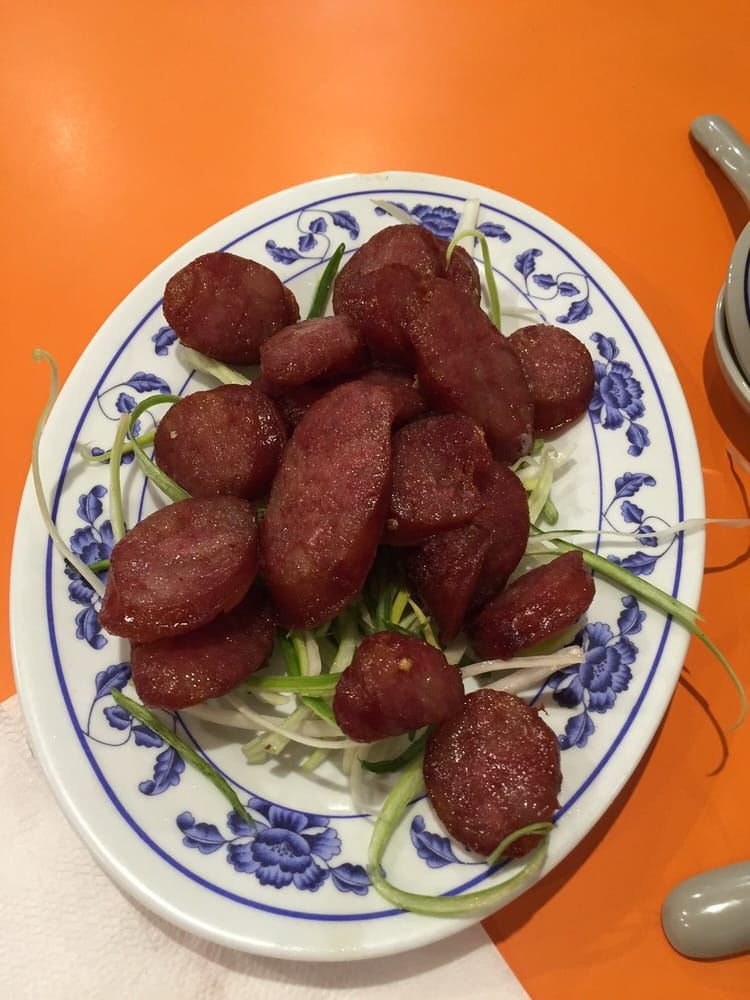chinese_sausage: (274, 398, 400, 612), (116, 529, 265, 622), (432, 489, 545, 602), (420, 311, 521, 434), (142, 611, 271, 705), (450, 715, 536, 826), (342, 644, 451, 729), (511, 318, 590, 425), (485, 572, 595, 647), (341, 234, 434, 317), (176, 394, 273, 467), (185, 262, 270, 333), (277, 316, 373, 376), (413, 436, 500, 498)
